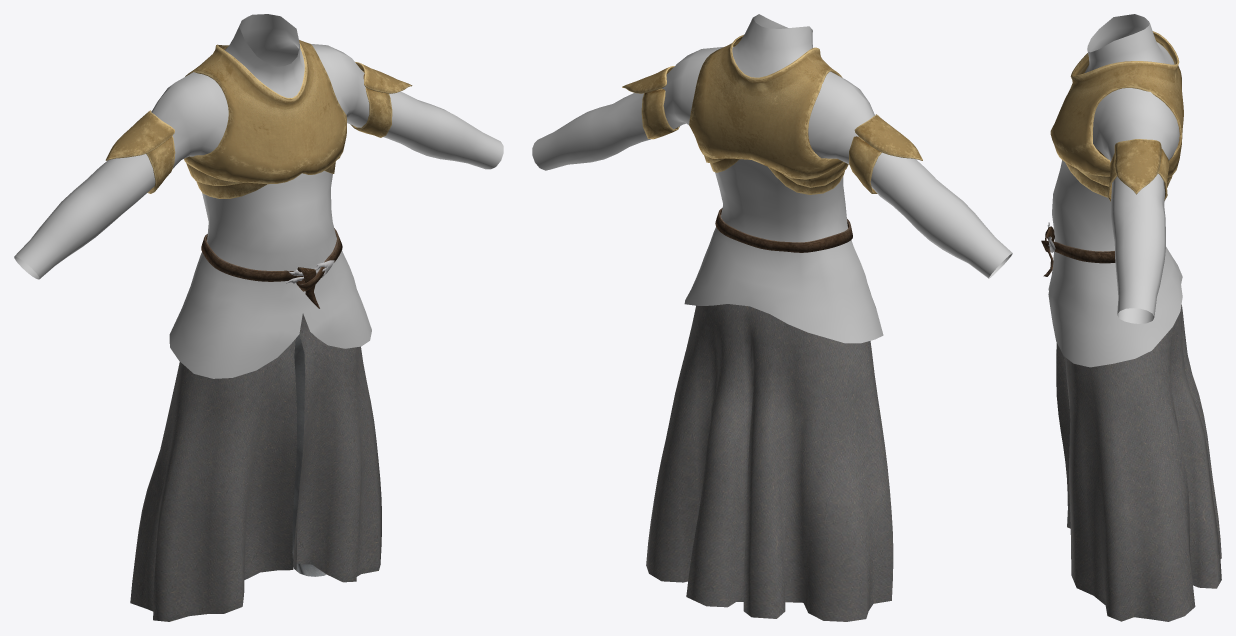
File: rivendell_torso_scalemail_tier2.fbx
3 renders of one model, left to right at view 1: azimuth 30°, elevation 25°; view 2: azimuth 150°, elevation 25°; view 3: azimuth 270°, elevation 25°, orthographic. The views are drawn at different scales.
Visible parts, largest first — view 1: rivendell_torso_scalemail_tier2.1, rivendell_torso_scalemail_tier2.3, rivendell_torso_scalemail_tier2.2, rivendell_torso_scalemail_tier2.0, rivendell_torso_scalemail_tier2.4; view 2: rivendell_torso_scalemail_tier2.1, rivendell_torso_scalemail_tier2.3, rivendell_torso_scalemail_tier2.2, rivendell_torso_scalemail_tier2.0, rivendell_torso_scalemail_tier2.4; view 3: rivendell_torso_scalemail_tier2.1, rivendell_torso_scalemail_tier2.3, rivendell_torso_scalemail_tier2.2, rivendell_torso_scalemail_tier2.0, rivendell_torso_scalemail_tier2.4.
Boxes of the visible parts, x1,y1,x2,y2 form: rivendell_torso_scalemail_tier2.1: (130,313,381,621); rivendell_torso_scalemail_tier2.3: (14,14,503,378); rivendell_torso_scalemail_tier2.2: (184,40,346,198); rivendell_torso_scalemail_tier2.0: (105,62,412,193); rivendell_torso_scalemail_tier2.4: (201,228,342,308); rivendell_torso_scalemail_tier2.1: (646,304,893,621); rivendell_torso_scalemail_tier2.3: (532,14,1012,343); rivendell_torso_scalemail_tier2.2: (689,35,848,194); rivendell_torso_scalemail_tier2.0: (622,66,922,193); rivendell_torso_scalemail_tier2.4: (715,208,852,252); rivendell_torso_scalemail_tier2.1: (1056,304,1221,621); rivendell_torso_scalemail_tier2.3: (1048,14,1182,367); rivendell_torso_scalemail_tier2.2: (1050,31,1183,197); rivendell_torso_scalemail_tier2.0: (1107,139,1169,201); rivendell_torso_scalemail_tier2.4: (1041,222,1115,276).
Size of the model in its own units: 1.27 by 0.4287 by 1.44.
